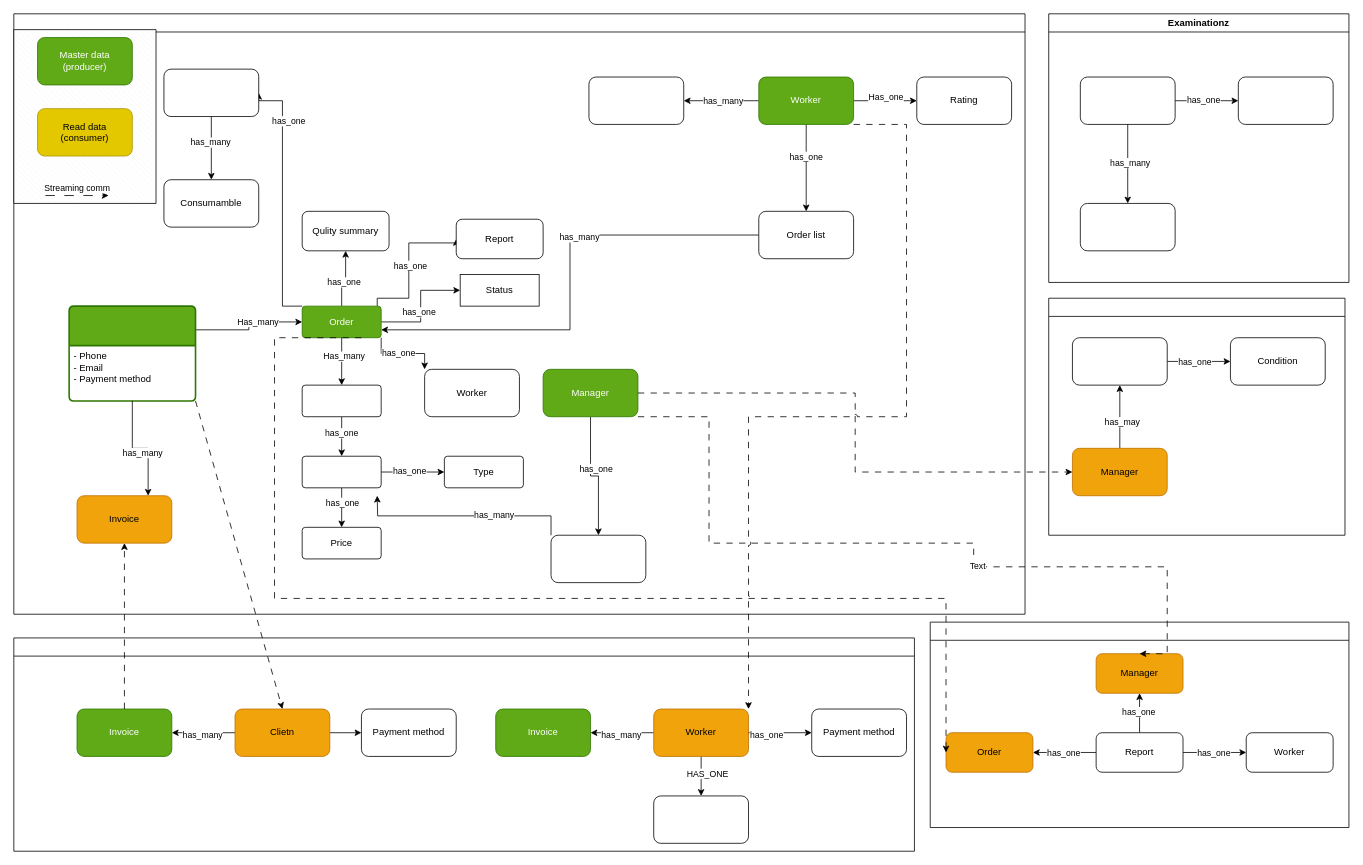
The diagram is 1363 pixels wide and 865 high, and some of its shapes have lost their labels. Here are the shapes that lost their labels. From the top down, the box of each, then its label:
(163, 68, 259, 117): Bag with consumambles
(588, 76, 684, 124): Characteristics
(1080, 76, 1175, 124): Candidate
(1238, 76, 1333, 124): Request
(1080, 203, 1175, 251): Task
(13, 13, 1025, 614): Orders
(68, 305, 196, 401): Client
(1072, 337, 1167, 385): Bet
(301, 384, 381, 417): Position
(1048, 297, 1345, 535): Totalizator
(301, 455, 381, 488): Service
(550, 534, 646, 583): List of services
(929, 621, 1349, 828): Quality Control
(653, 795, 749, 843): Balance
